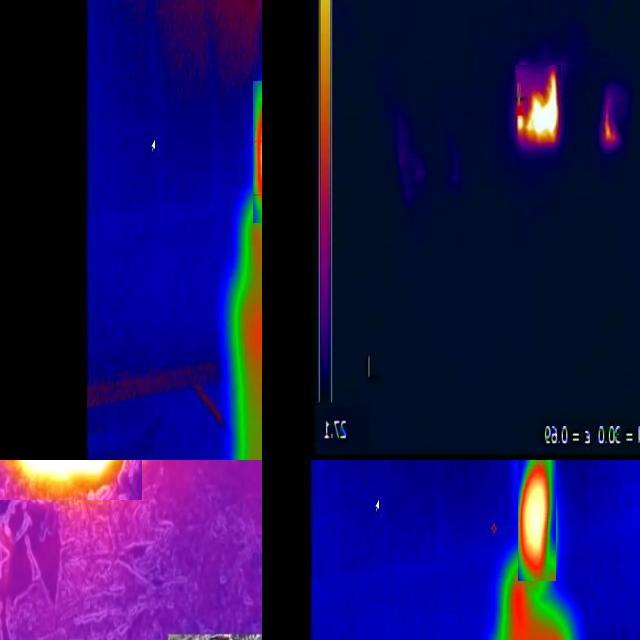fire: (1, 461, 143, 501), (519, 461, 557, 582), (516, 66, 562, 148), (254, 82, 263, 224), (604, 94, 621, 148)
